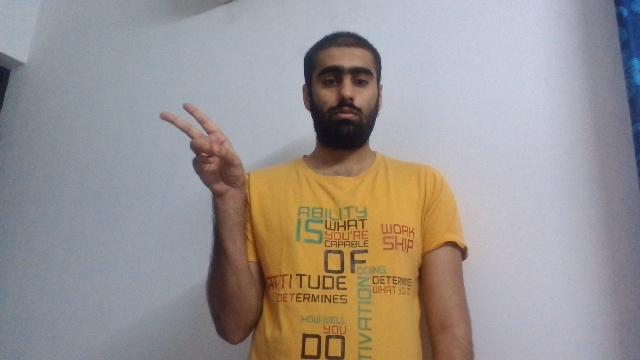scissors: (158, 102, 248, 195)
